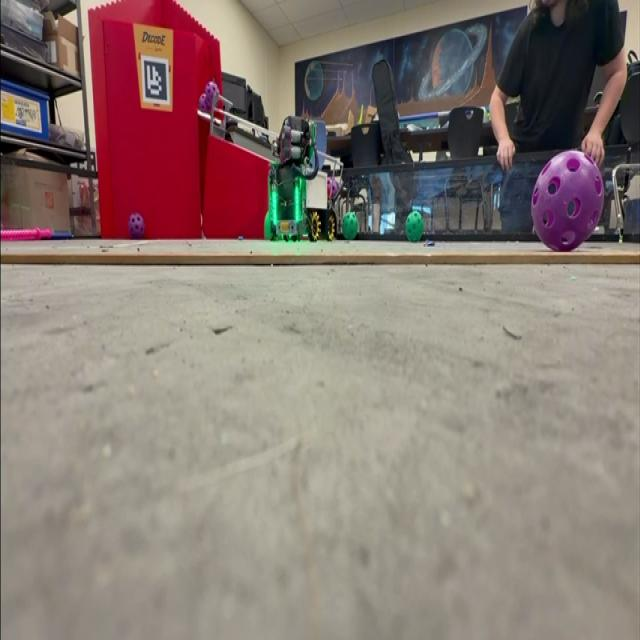artifact_green: (406, 211, 423, 242), (343, 212, 358, 241), (264, 212, 271, 239), (484, 108, 491, 122)
artifact_purple: (532, 151, 604, 251), (205, 82, 219, 110), (129, 214, 145, 238), (328, 176, 339, 199), (199, 94, 209, 111), (204, 95, 212, 113)
